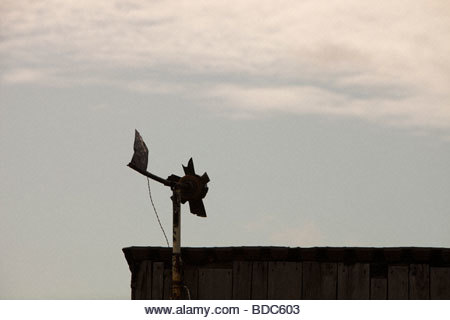faulty: (121, 126, 217, 228)
